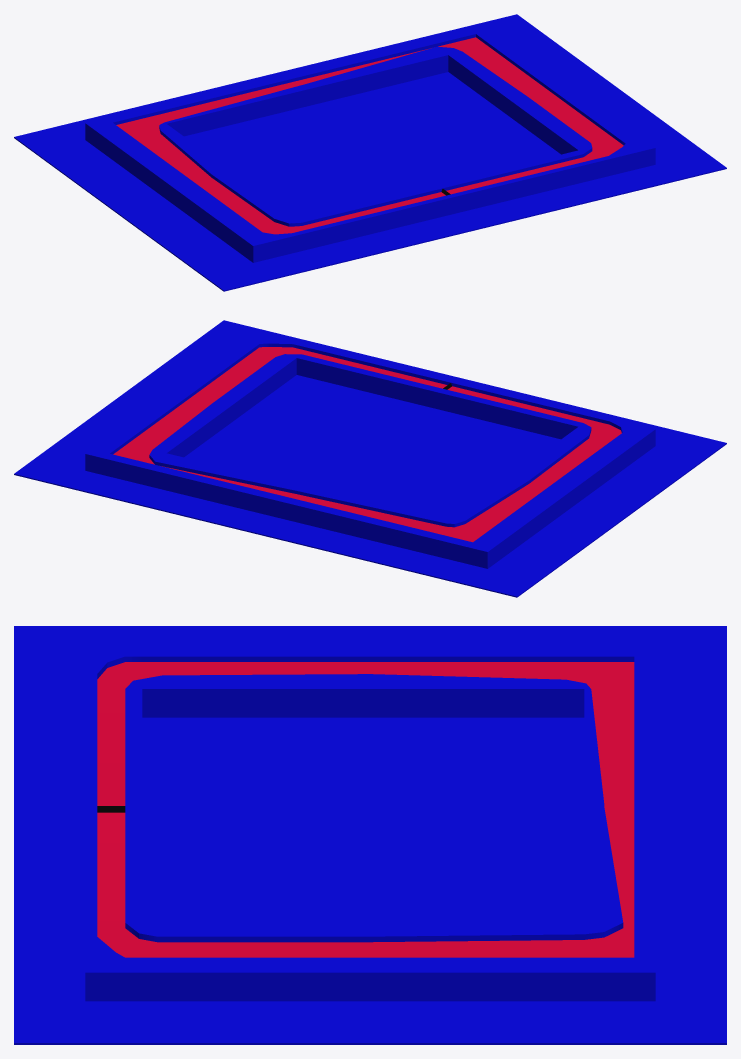
The model's file is Tack.fbx.
The picture shows the model from 3 angles, top to bottom: view 1: azimuth 30°, elevation 25°; view 2: azimuth 150°, elevation 25°; view 3: azimuth 270°, elevation 25°; orthographic projection. The views are drawn at different scales.
Parts seen in each view (by area): view 1: pCube1; view 2: pCube1; view 3: pCube1.
Boxes of the visible parts, x1,y1,x2,y2 form: pCube1: (14,14,726,291); pCube1: (14,320,726,597); pCube1: (14,626,726,1044).
Bounding box in the file's own units: 278 × 9.5 × 201.
